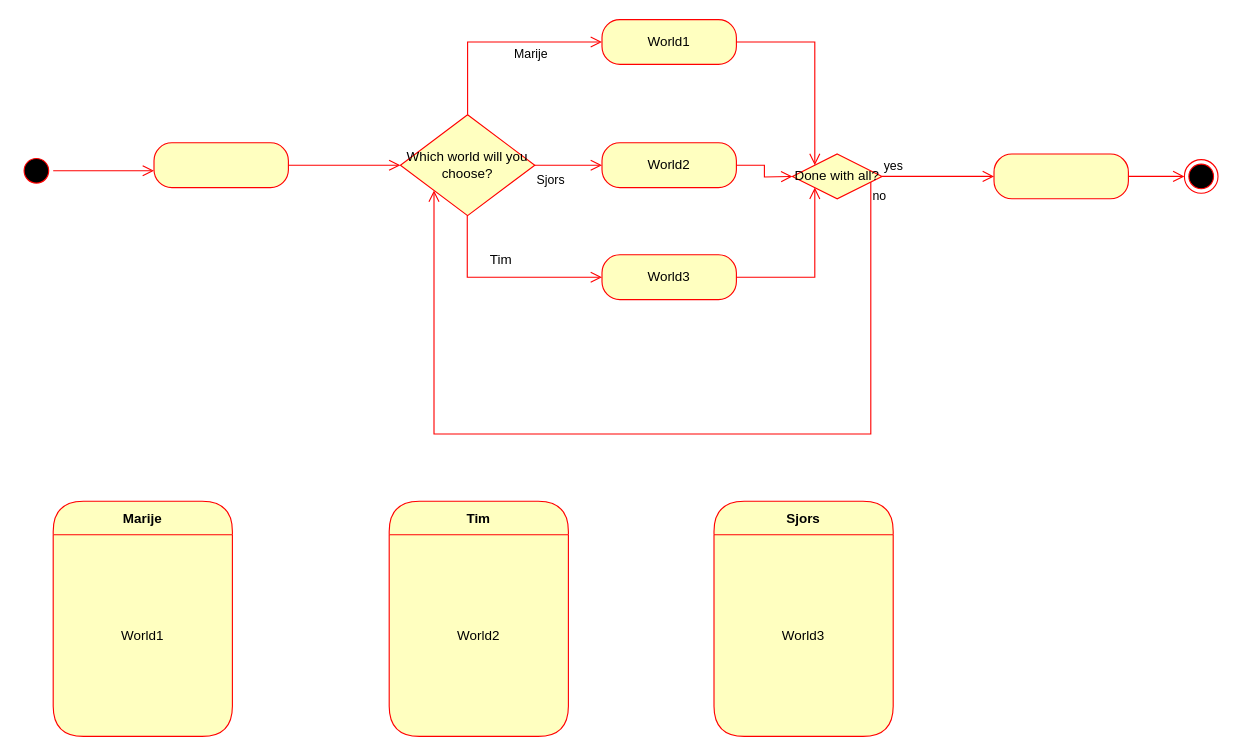
Image size: 1238x756. Some labels were removed from this diagram. The shapes that lost their labels are listed below. From the top down, each one's centre as x and y in pixels, then its label:
(220,165): "Welcome player"
(1060,176): bye!
